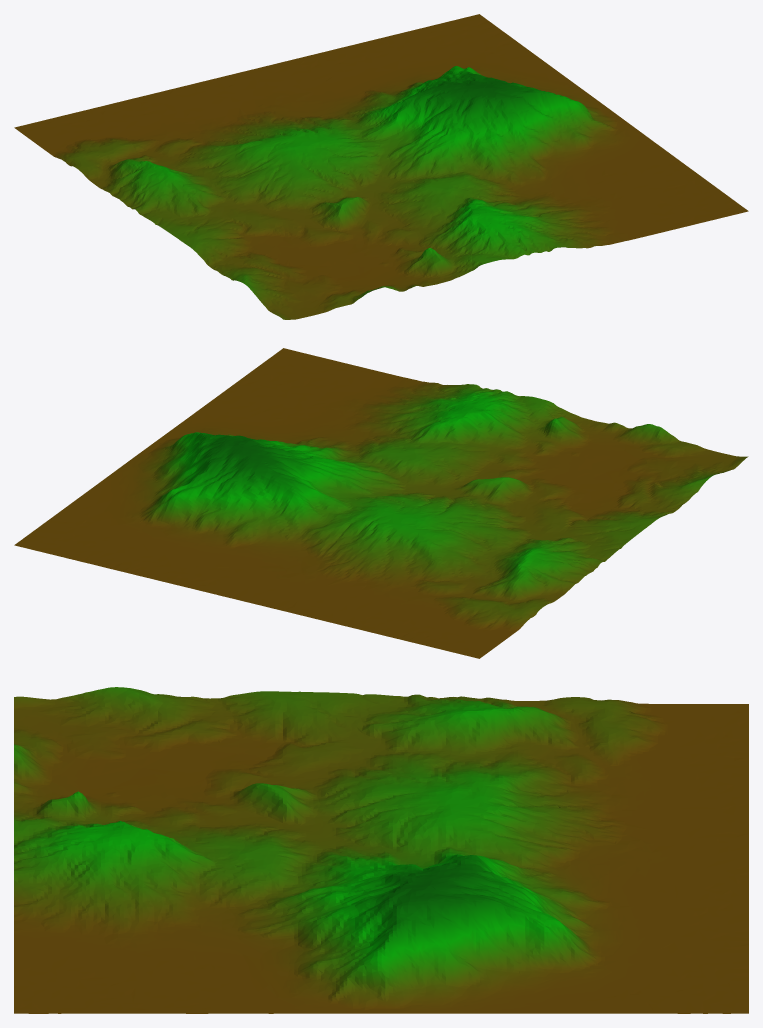
Rendered from Tile_003.fbx.
The picture shows the model from 3 angles, top to bottom: view 1: azimuth 30°, elevation 25°; view 2: azimuth 150°, elevation 25°; view 3: azimuth 270°, elevation 25°; orthographic projection. The views are drawn at different scales.
Visible parts, largest first — view 1: foreach_begin1; view 2: foreach_begin1; view 3: foreach_begin1.
Part boxes in pixels (box(x1,y1,x2,y2)): foreach_begin1: box(14, 14, 748, 319); foreach_begin1: box(14, 348, 748, 658); foreach_begin1: box(14, 687, 748, 1013).
Size of the model in its own units: 1552 by 126 by 1556.
